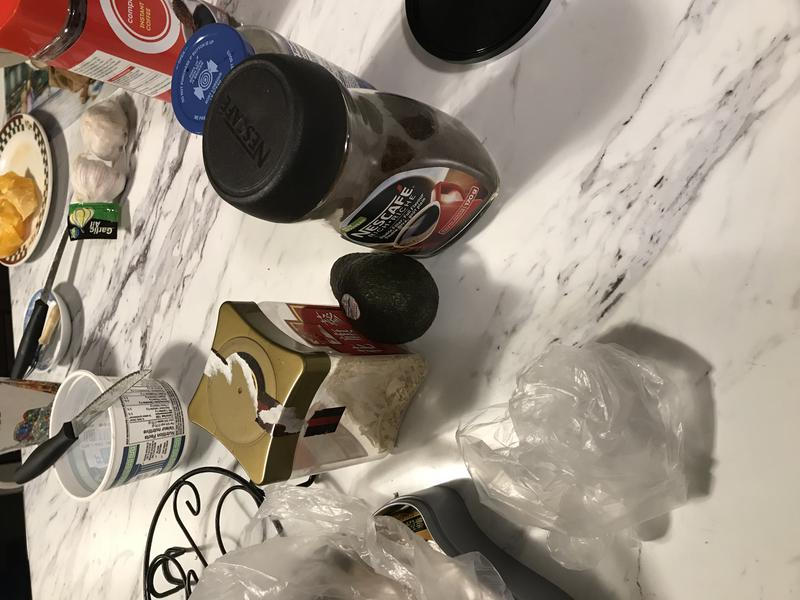avacado: (324, 246, 441, 348)
